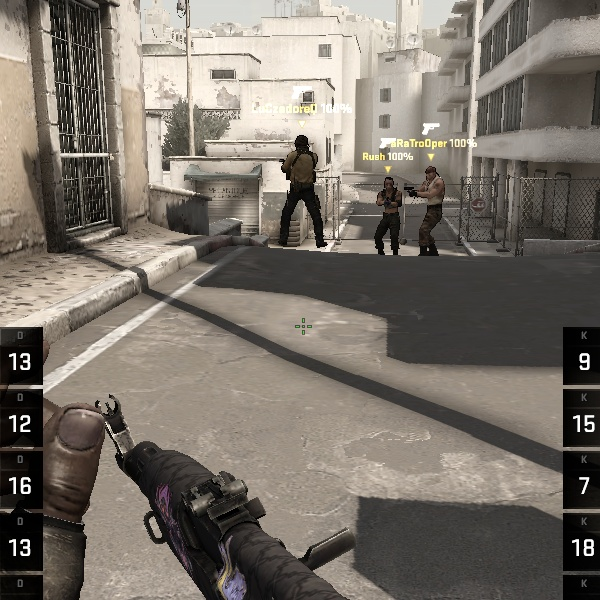t_body: (276, 133, 323, 247), (408, 165, 449, 257), (370, 173, 412, 258)
t_head: (292, 134, 311, 152), (424, 166, 438, 182), (383, 176, 395, 193)
